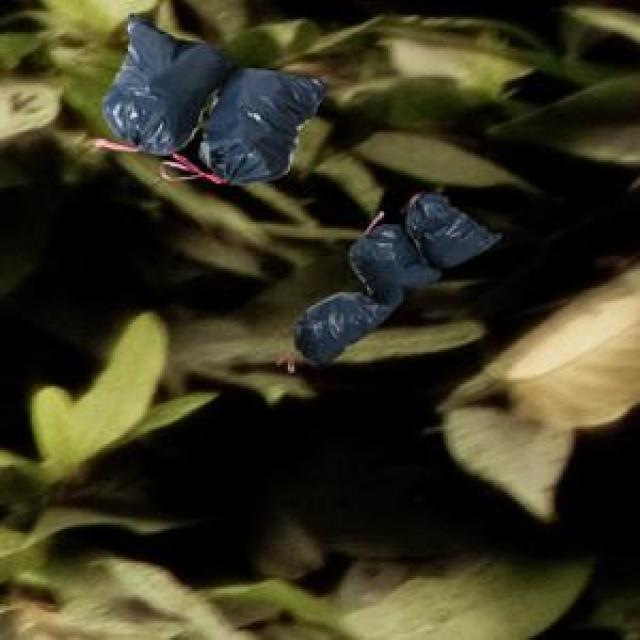waste: (102, 16, 324, 184), (295, 192, 500, 366)
